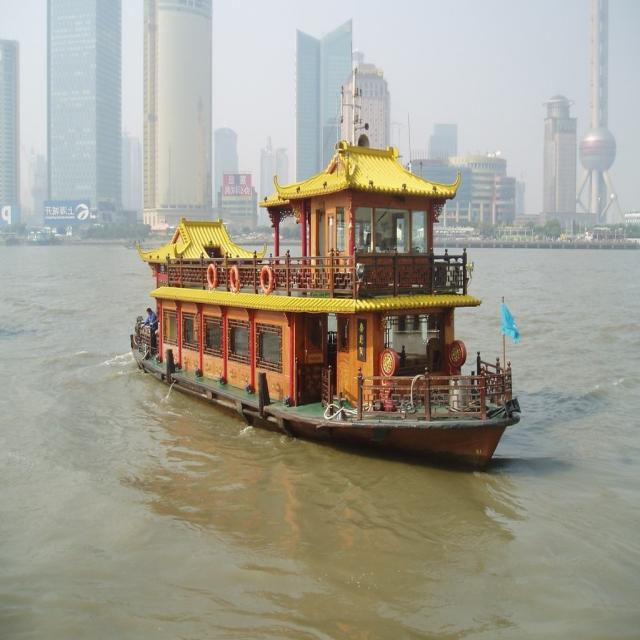boat: (121, 76, 530, 474)
